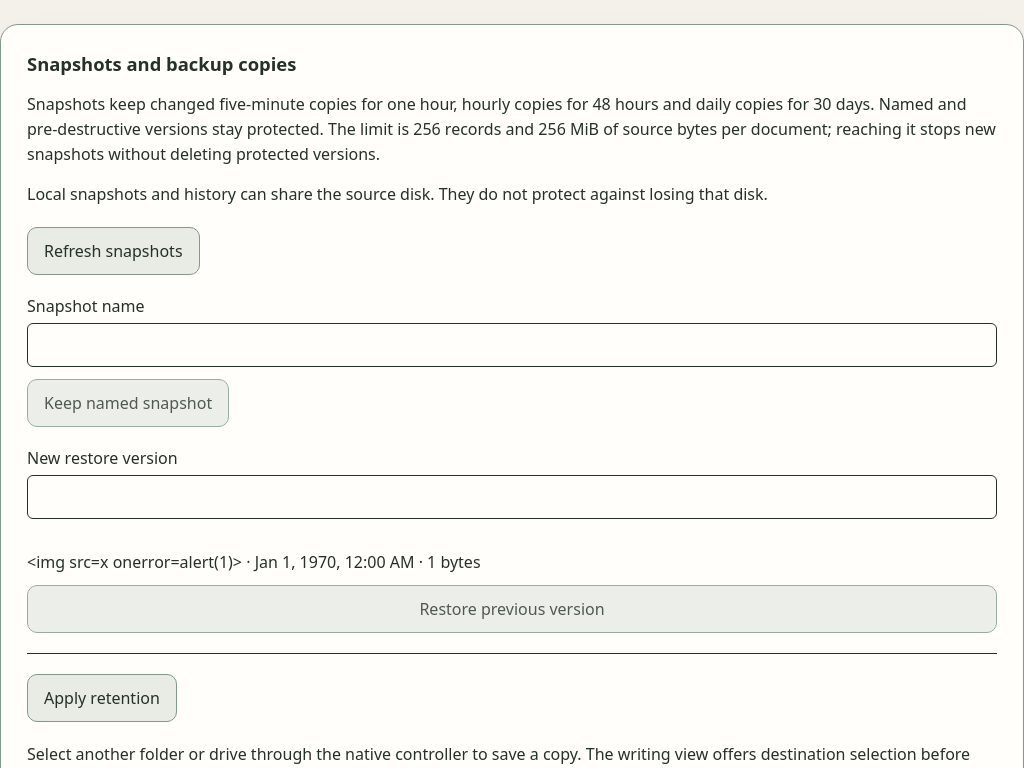
Scenario: snapshot review with injected ports › validates a new restore receipt before publishing to the owner
Check: the text "<img src=x" is shown, box x1=27 y1=551 x2=242 y2=573
Check: the button "Restore previous version" is disabled, box x1=27 y1=585 x2=997 y2=633
Type "22" into the field labelled "New restore version" at {"x": 512, "y": 497}, box x1=27 y1=475 x2=997 y2=519
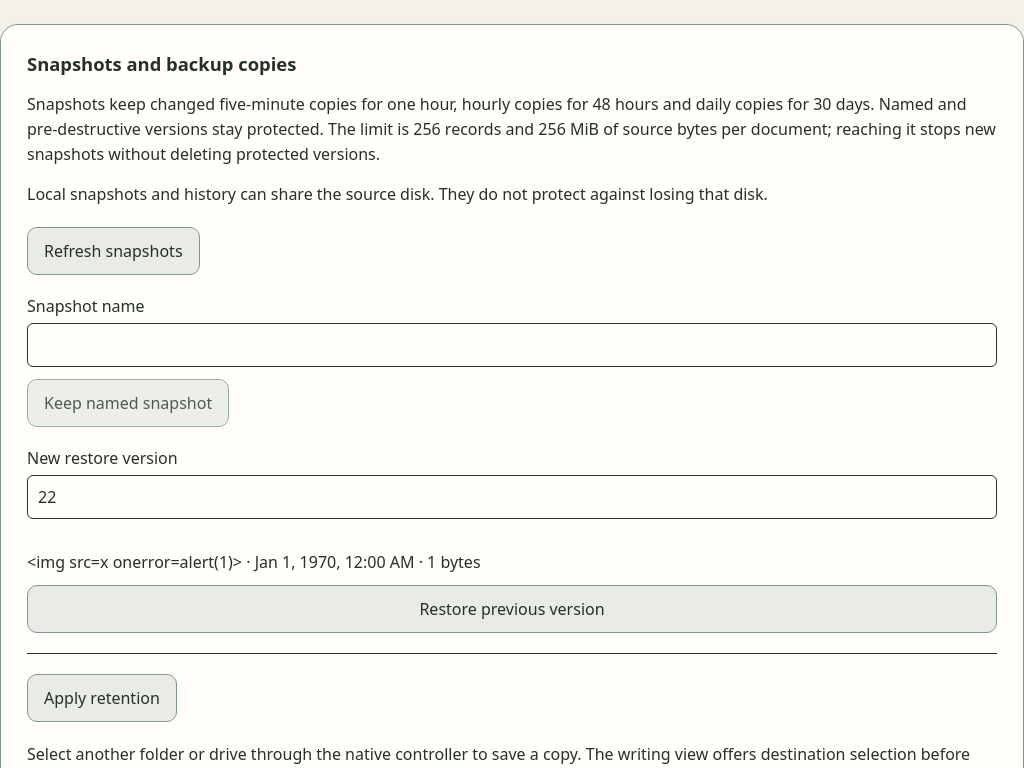
Click the button "Restore previous version" at {"x": 512, "y": 609}, box x1=27 y1=585 x2=997 y2=633
(page scrolled)
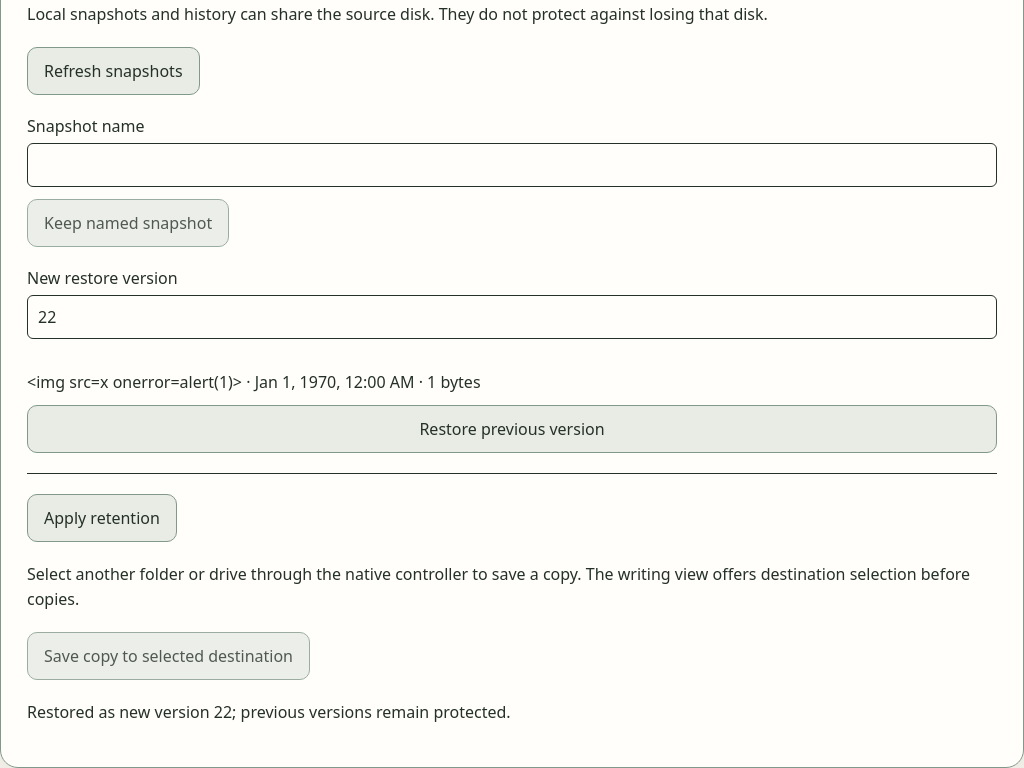
Check: the text "Restored as new version 22; previous versions remain protected." is shown, box x1=27 y1=701 x2=511 y2=723
